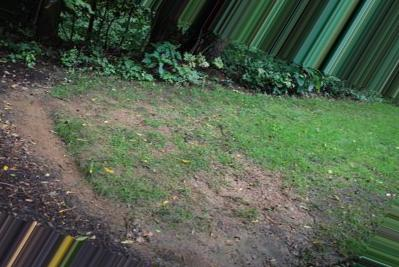patch: (14, 97, 86, 212), (198, 183, 296, 250), (115, 204, 186, 257), (14, 98, 52, 166), (34, 143, 76, 204), (98, 102, 147, 130)
